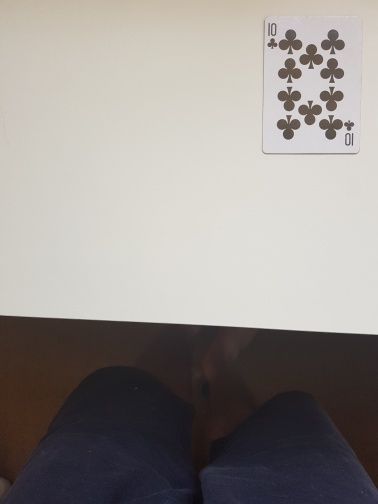ten: (261, 15, 363, 155)
